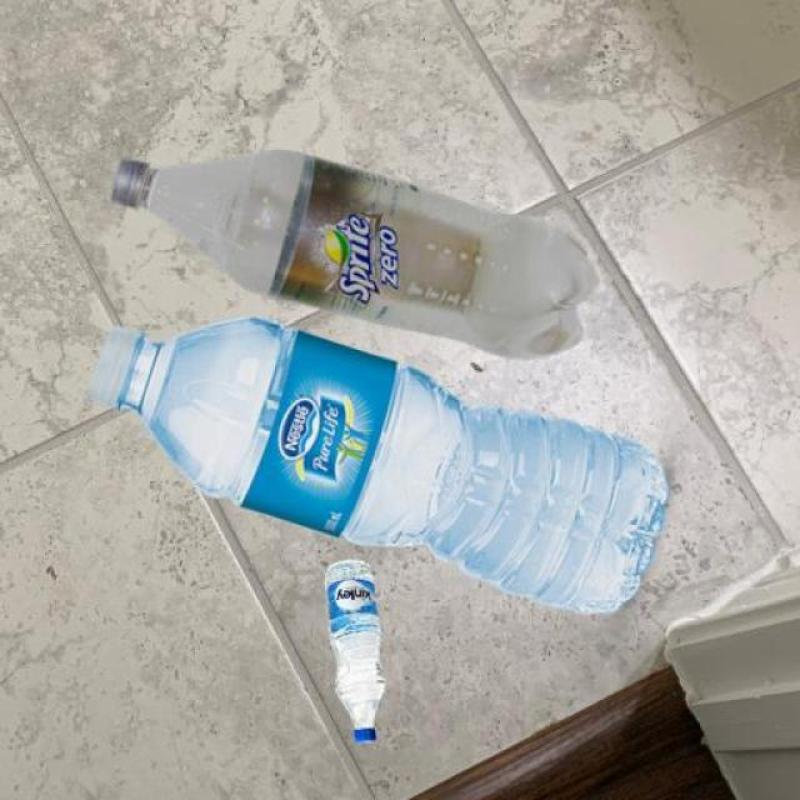botella: (93, 319, 668, 619), (110, 143, 596, 359), (320, 562, 386, 744)
